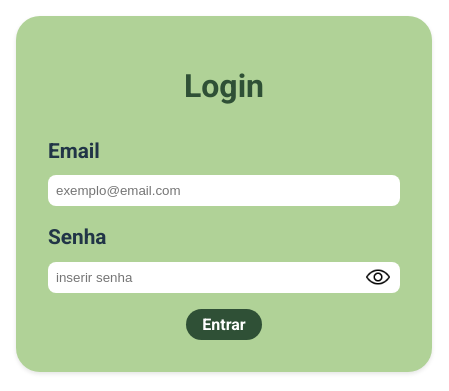
Test: Login page › toggles password visibility
Click the button named "Mostrar senha" at (378, 277), box [366, 265, 390, 289]
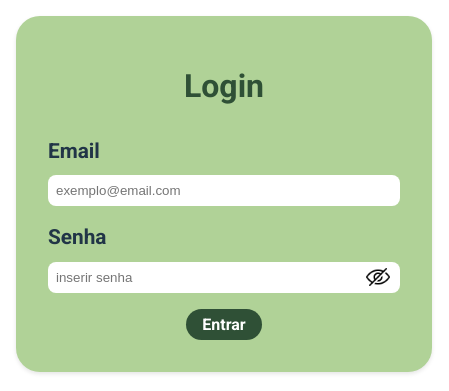
Result: the button named "Esconder senha" is shown at [366, 265, 390, 289]
